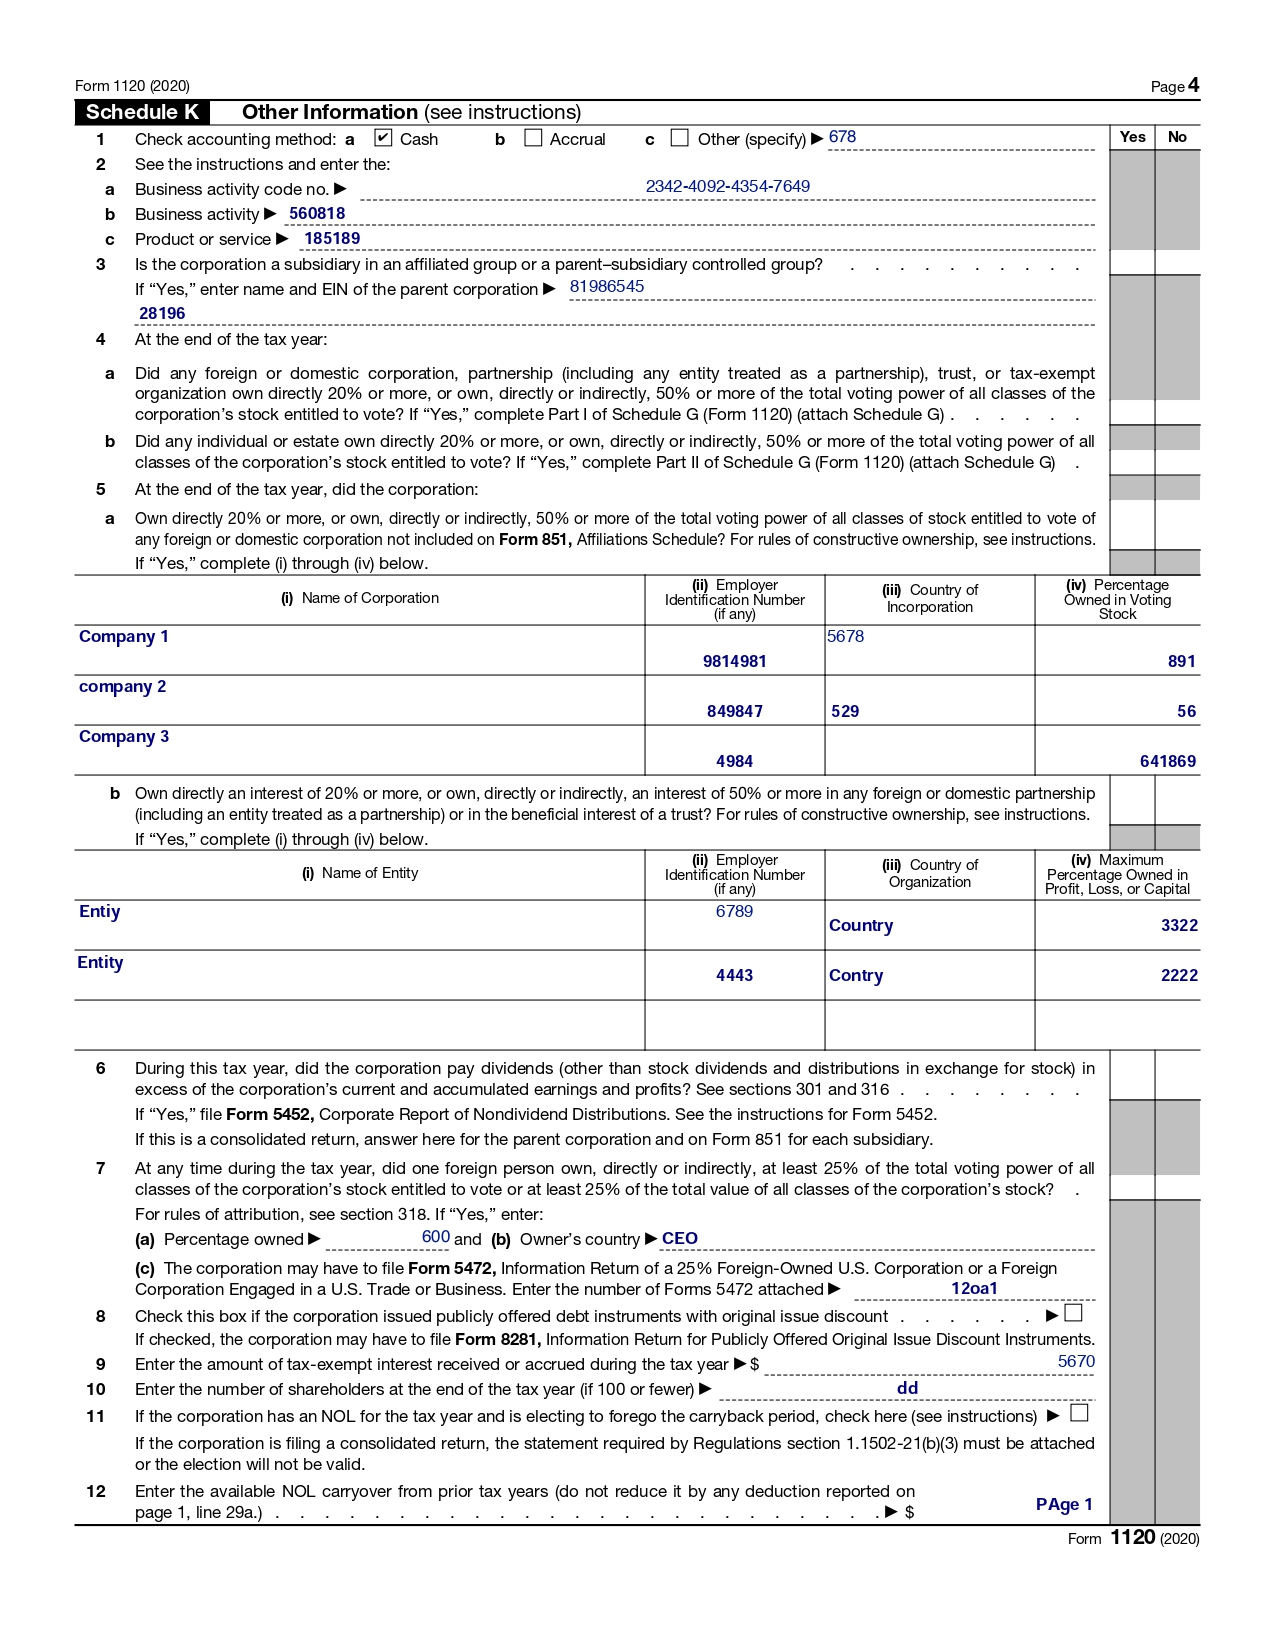table: (60, 90, 1216, 579), (78, 1054, 1236, 1525), (58, 572, 1225, 777), (66, 850, 1229, 1054), (82, 771, 1217, 849)
